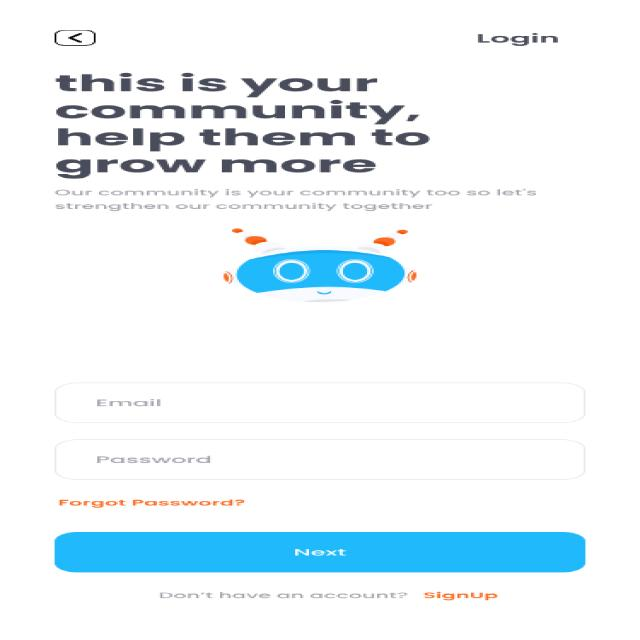button: (21, 517, 612, 582)
column: (0, 58, 640, 639)
icon button: (35, 19, 112, 55)
input: (31, 370, 610, 430), (28, 435, 609, 486)
text: (28, 64, 612, 220), (451, 23, 596, 55)
view: (164, 225, 486, 353)
